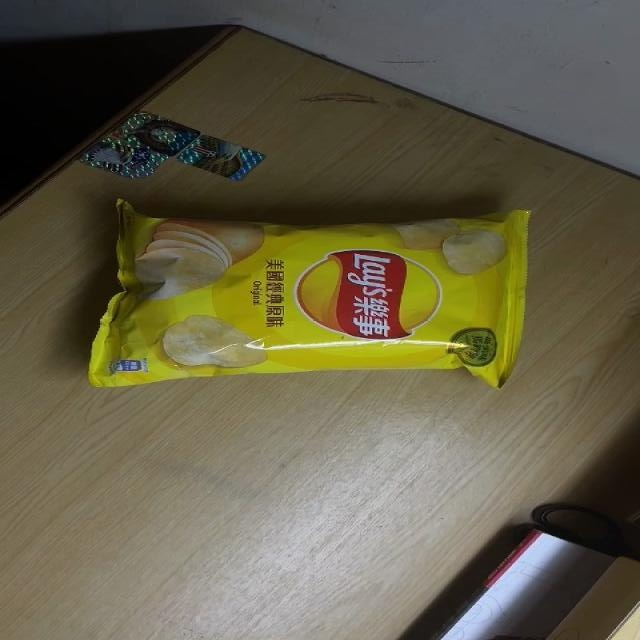Lay-s-original: (87, 199, 530, 391)
